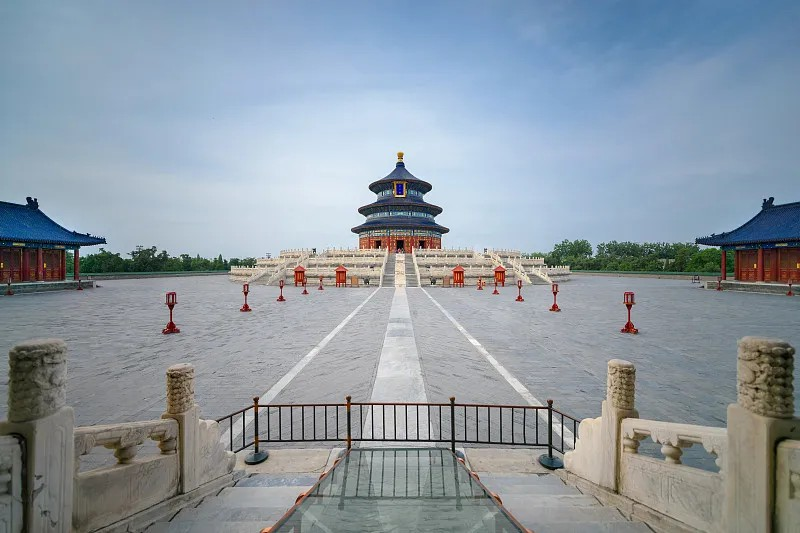Heaven: (350, 152, 452, 254)
